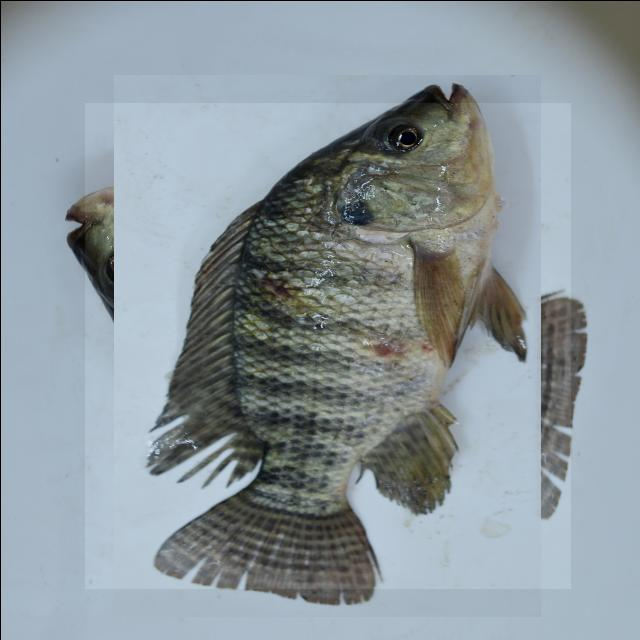Columnaris Disease: (84, 102, 570, 588)
